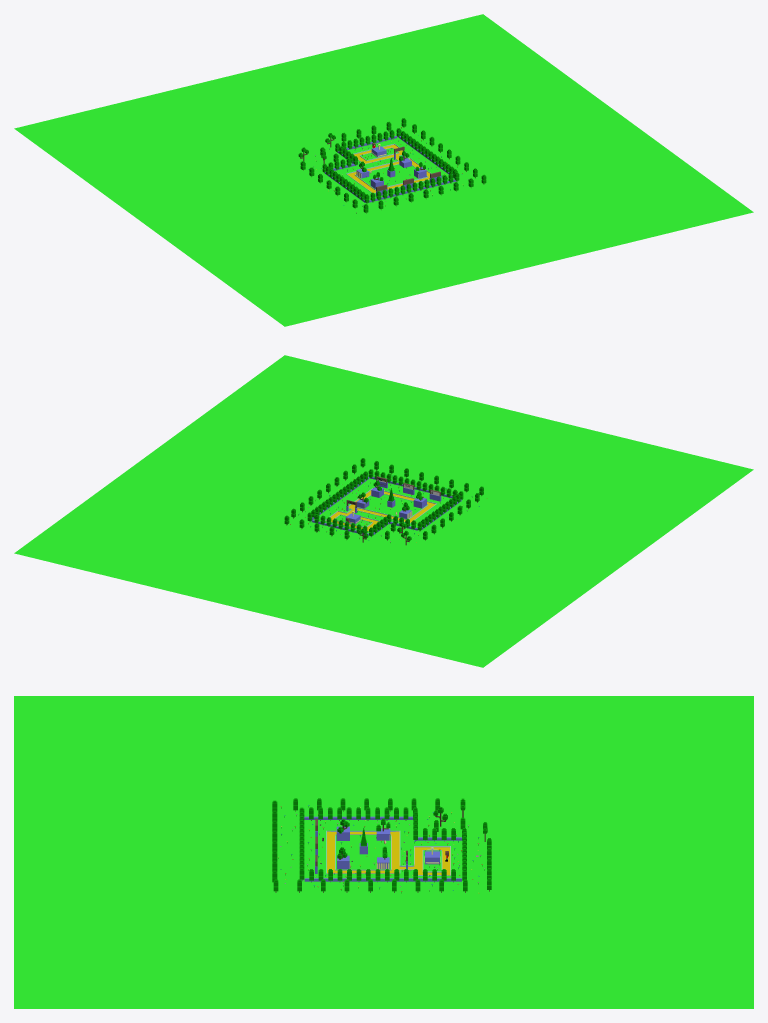
Rendered from portfolio.glb.
The picture shows the model from 3 angles, top to bottom: view 1: azimuth 30°, elevation 25°; view 2: azimuth 150°, elevation 25°; view 3: azimuth 270°, elevation 25°; orthographic projection. The views are drawn at different scales.
Visible parts, largest first — view 1: ground, onground, walls; view 2: ground, onground, walls; view 3: ground, onground, walls.
Part boxes in pixels (left/top/right/bottom): ground: left=14, top=14, right=753, bottom=326; onground: left=298, top=118, right=486, bottom=213; walls: left=324, top=136, right=456, bottom=202; ground: left=14, top=355, right=753, bottom=667; onground: left=284, top=458, right=483, bottom=545; walls: left=311, top=476, right=461, bottom=536; ground: left=14, top=696, right=753, bottom=1008; onground: left=272, top=798, right=491, bottom=893; walls: left=302, top=816, right=478, bottom=881.
Bounding box in the file's own units: 559 × 20.95 × 559.
33 materials, 3 textured.
